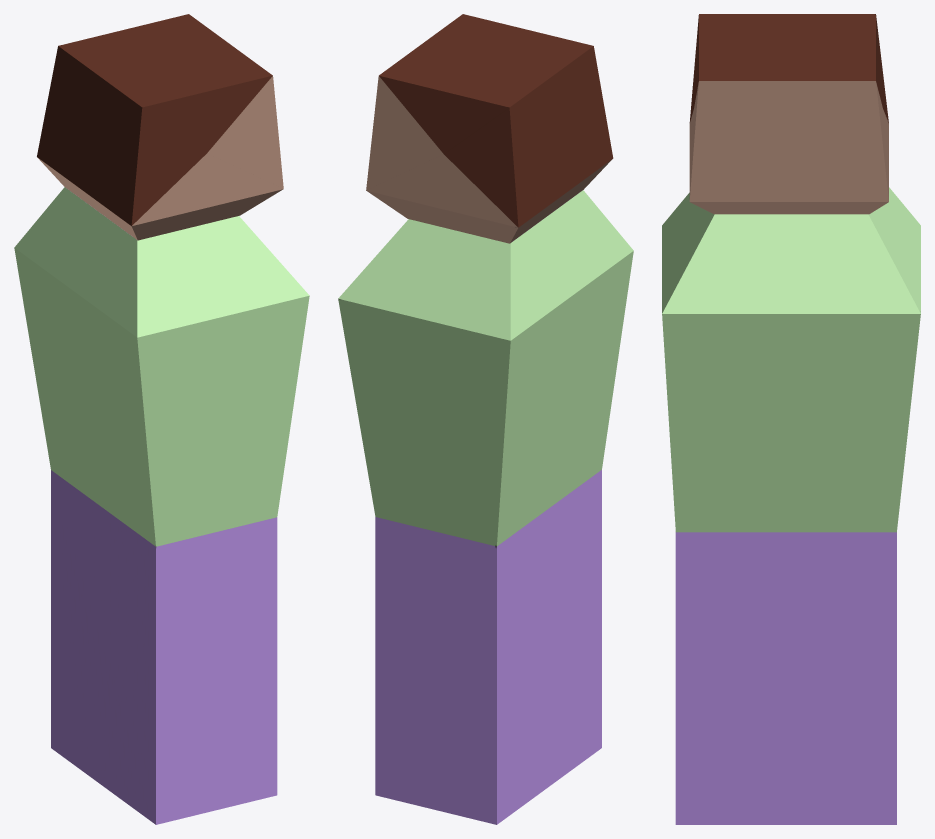
File: person3.gltf
The picture shows the model from 3 angles, left to right: view 1: azimuth 30°, elevation 25°; view 2: azimuth 150°, elevation 25°; view 3: azimuth 270°, elevation 25°; orthographic projection. The views are drawn at different scales.
Visible parts, largest first — view 1: person3; view 2: person3; view 3: person3.
Part boxes in pixels (box(x1,y1,x2,y2)): person3: box(14, 14, 309, 824); person3: box(338, 14, 633, 824); person3: box(662, 14, 920, 824).
Bounding box in the file's own units: 0.5687 × 2.24 × 0.7027.
Materials: 1 (1 with a texture image).
